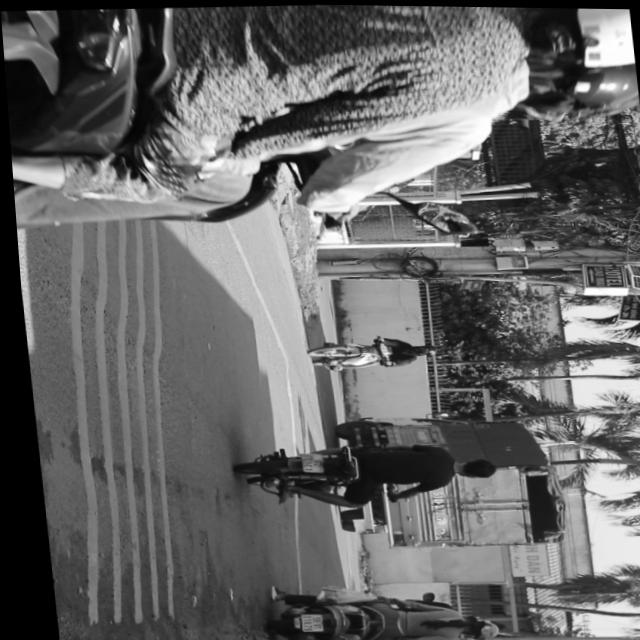helmet: (501, 6, 635, 71), (501, 63, 640, 122), (450, 613, 490, 639)
licenseplate: (0, 0, 640, 242), (224, 433, 494, 511), (253, 577, 495, 640)
motorcyclist: (446, 454, 490, 478)
nohelmet: (289, 612, 314, 631), (294, 452, 316, 471)
